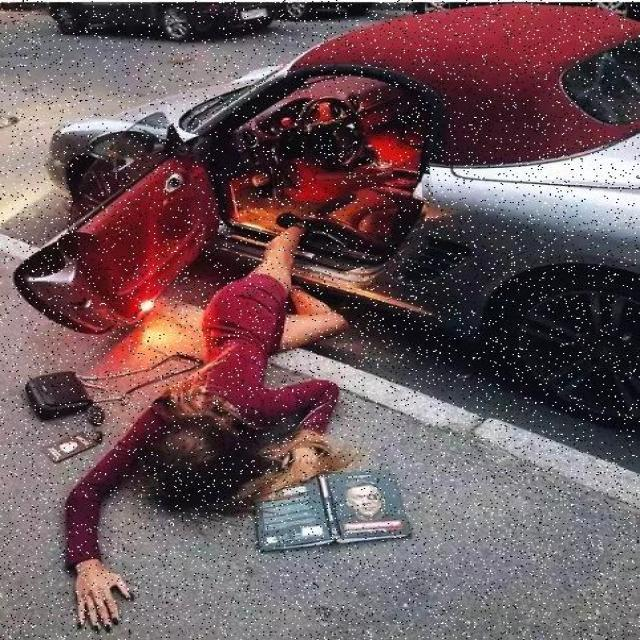fall: (62, 234, 354, 621)
